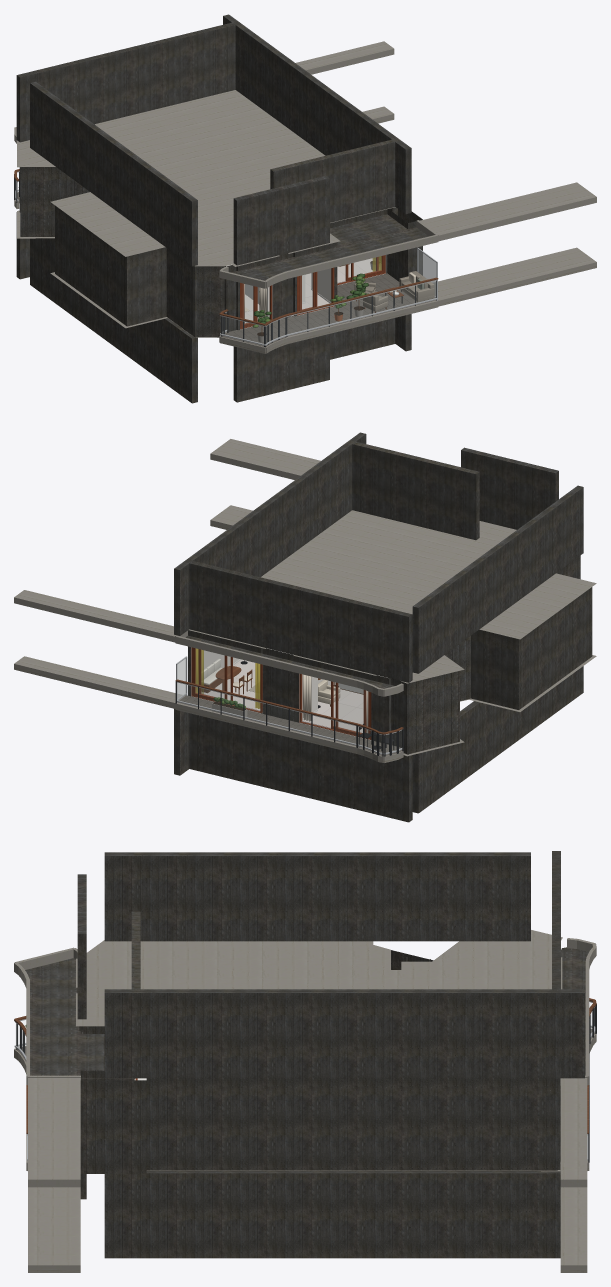
3 renders of one model, top to bottom at view 1: azimuth 30°, elevation 25°; view 2: azimuth 150°, elevation 25°; view 3: azimuth 270°, elevation 25°, orthographic. The views are drawn at different scales.
Parts seen in each view (by area): view 1: building.mass, slab.upper, building.neighbours, facade.900, railing.90, ceil.balkon_z, floor.balkon_z, facade.12, facade.902, facade.66, facade.65, railing.95 (+10 smaller); view 2: building.mass, slab.upper, building.neighbours, facade.900, railing.81, facade.901, facade.11, glass.exterior, facade.2, floor.balkon_n, floor.slaapk1, floor.woonkamer (+9 smaller); view 3: building.mass, facade.79, slab.upper, building.neighbours, facade.78, ceil.balkon_z, ceil.balkon_n, railing.81, railing.95, railing.90.
Boxes of the visible parts, left/top/right/bottom form: building.mass: left=16, top=14, right=411, bottom=403; slab.upper: left=17, top=90, right=395, bottom=266; building.neighbours: left=296, top=41, right=596, bottom=306; facade.900: left=55, top=205, right=126, bottom=326; railing.90: left=286, top=235, right=438, bottom=343; ceil.balkon_z: left=231, top=214, right=428, bottom=280; floor.balkon_z: left=220, top=273, right=435, bottom=347; facade.12: left=20, top=167, right=89, bottom=236; facade.902: left=127, top=247, right=166, bottom=326; facade.66: left=193, top=266, right=224, bottom=337; facade.65: left=166, top=248, right=194, bottom=337; railing.95: left=219, top=270, right=266, bottom=353; building.mass: left=174, top=432, right=583, bottom=822; slab.upper: left=189, top=510, right=596, bottom=683; building.neighbours: left=14, top=439, right=320, bottom=708; facade.900: left=519, top=587, right=592, bottom=709; railing.81: left=175, top=635, right=358, bottom=753; facade.901: left=471, top=629, right=518, bottom=709; facade.11: left=429, top=671, right=459, bottom=749; glass.exterior: left=201, top=650, right=363, bottom=732; facade.2: left=262, top=648, right=298, bottom=722; floor.balkon_n: left=177, top=695, right=402, bottom=755; floor.slaapk1: left=299, top=689, right=370, bottom=740; floor.woonkamer: left=193, top=659, right=260, bottom=713; building.mass: left=77, top=851, right=584, bottom=1258; facade.79: left=146, top=1078, right=557, bottom=1170; slab.upper: left=76, top=930, right=562, bottom=1026; building.neighbours: left=28, top=1078, right=587, bottom=1272; facade.78: left=80, top=1070, right=146, bottom=1173; ceil.balkon_z: left=25, top=958, right=135, bottom=1078; ceil.balkon_n: left=561, top=947, right=588, bottom=1075; railing.81: left=585, top=961, right=589, bottom=1170; railing.95: left=14, top=947, right=74, bottom=1049; railing.90: left=26, top=979, right=29, bottom=1170.
Size of what is drawn, in the model's own units: 21.01 by 9.75 by 19.42.
62 materials, 33 textured.
